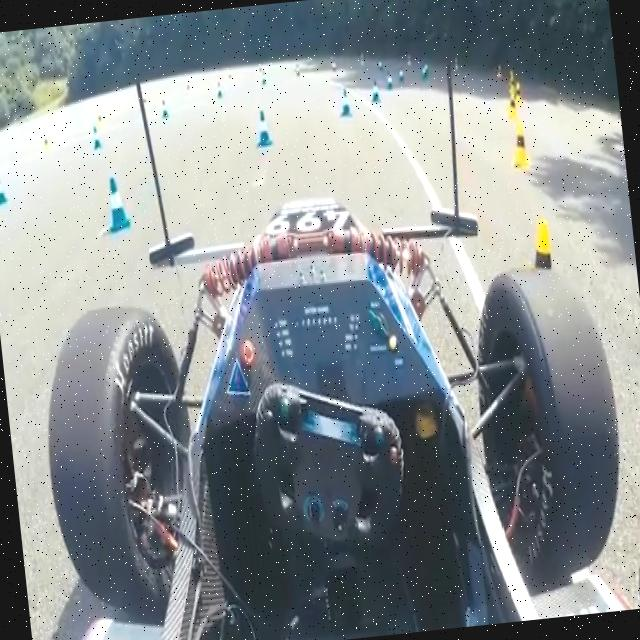blue_cone: (100, 168, 140, 242), (248, 100, 278, 150), (337, 85, 355, 116), (369, 74, 382, 106), (385, 67, 393, 92), (398, 62, 404, 93)
yellow_cone: (527, 200, 557, 278), (507, 107, 532, 166), (506, 62, 526, 102)
